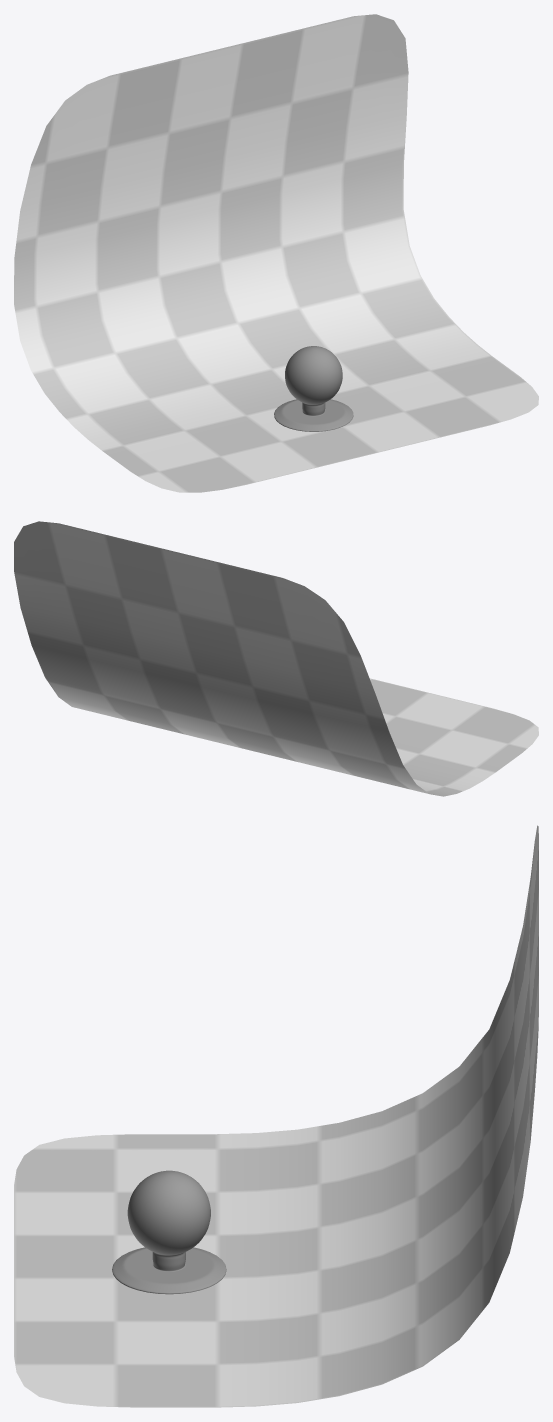
The model's file is mitsuba-back.obj.
3 renders of one model, top to bottom at view 1: azimuth 30°, elevation 25°; view 2: azimuth 150°, elevation 25°; view 3: azimuth 270°, elevation 25°, orthographic. The views are drawn at different scales.
Visible parts, largest first — view 1: 1, 2; view 2: 1; view 3: 1, 2.
Boxes of the visible parts, <box> form: 1: <box>14,14,538,492</box>; 2: <box>274,346,353,431</box>; 1: <box>14,521,538,796</box>; 1: <box>14,825,538,1407</box>; 2: <box>112,1170,226,1294</box>.
Bounding box in the file's own units: 12.79 × 7.77 × 9.73.
2 materials, 1 textured.
